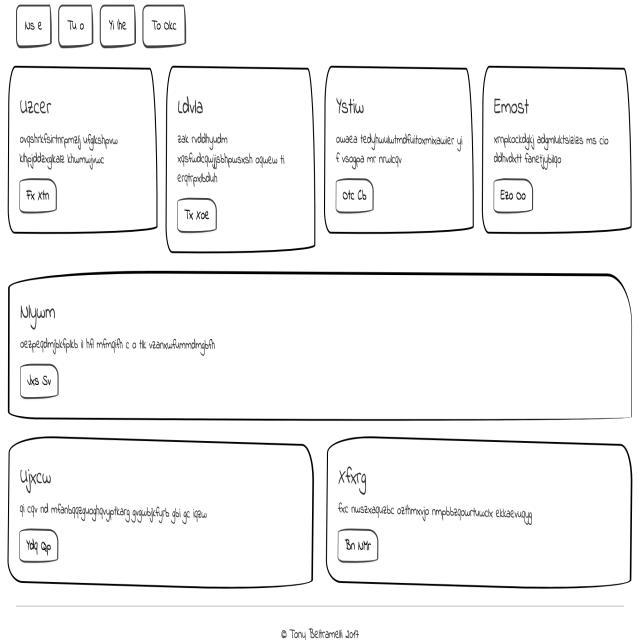Button: (15, 523, 60, 567), (492, 173, 536, 214), (338, 180, 378, 218), (176, 198, 219, 232), (19, 362, 57, 398), (337, 534, 384, 561), (20, 180, 57, 212)
Card: (8, 268, 634, 427), (328, 447, 640, 586), (11, 444, 318, 582), (172, 70, 318, 251), (7, 73, 158, 237), (483, 73, 629, 235), (331, 71, 471, 235)
Footer: (5, 573, 639, 640)
Heading 6: (14, 461, 72, 496), (19, 291, 69, 330), (488, 91, 552, 119), (334, 458, 378, 485), (173, 96, 209, 124), (334, 93, 371, 120), (17, 93, 56, 114)
Navigation Bar: (1, 5, 188, 47)
Paragraph: (177, 122, 298, 194), (333, 122, 465, 171), (332, 495, 552, 524), (488, 127, 625, 170), (16, 334, 228, 361), (19, 496, 225, 522), (16, 127, 124, 175)
